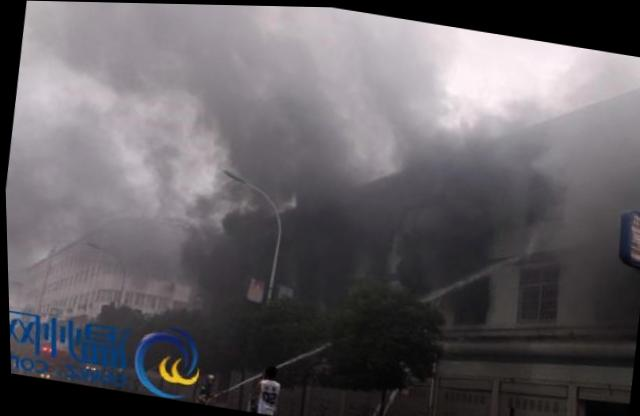smoke: (21, 88, 191, 268), (381, 80, 558, 250), (208, 55, 363, 203), (40, 1, 311, 64), (68, 30, 219, 105), (323, 12, 449, 85)
